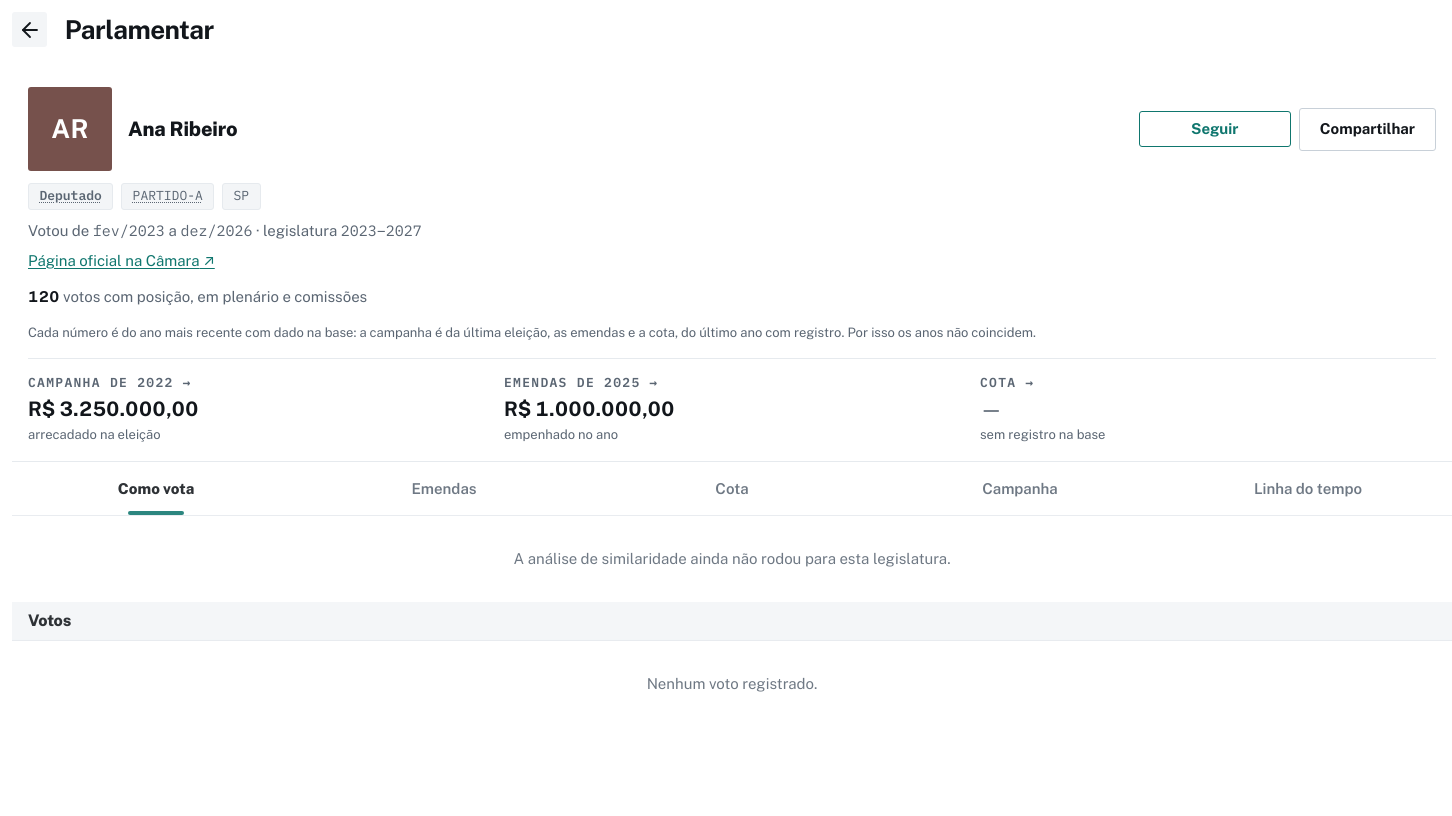
Test: contas — emendas › RISCO: mostra o pago junto do empenhado, nunca só o empenhado
Click the link "Emendas".
click(444, 488)  # box x1=412 y1=480 x2=476 y2=497
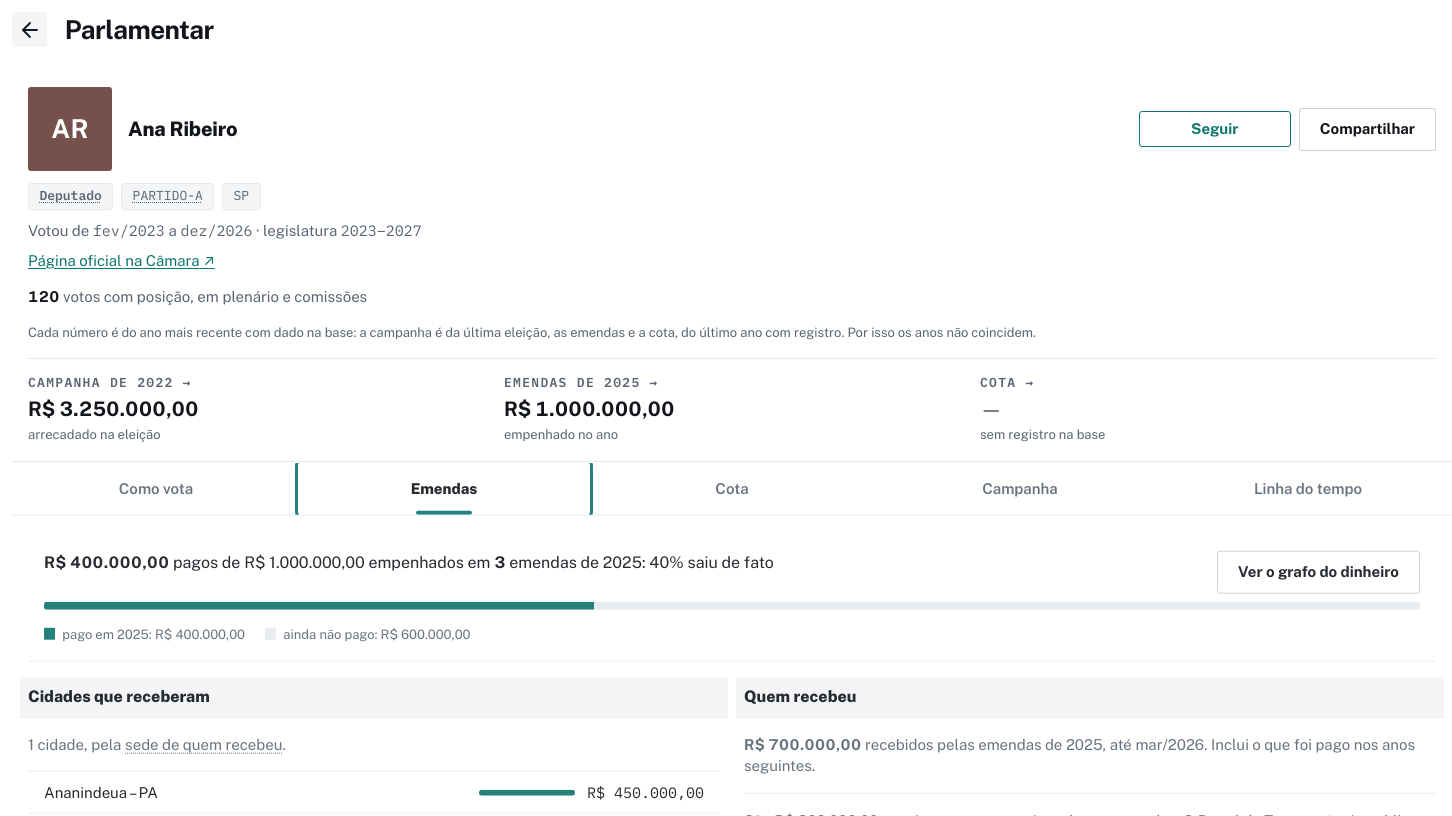
Expected: the text "R$ 1.000.000,00" is shown, x1=504 y1=397 x2=674 y2=421
Now the text "R$ 400.000,00" is shown, box x1=44 y1=552 x2=169 y2=571
Now the text "40% saiu de fato" is shown, box x1=44 y1=552 x2=774 y2=571
